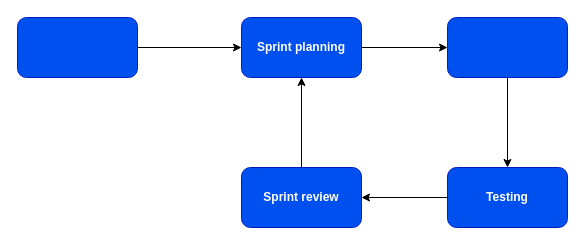
Image size: 585x245. Some labels were removed from this diagram. The centre of each missing label's shape, as x and y in pixels:
"Comunicación" goes at point (77, 47).
"Desarrollo" goes at point (507, 47).
